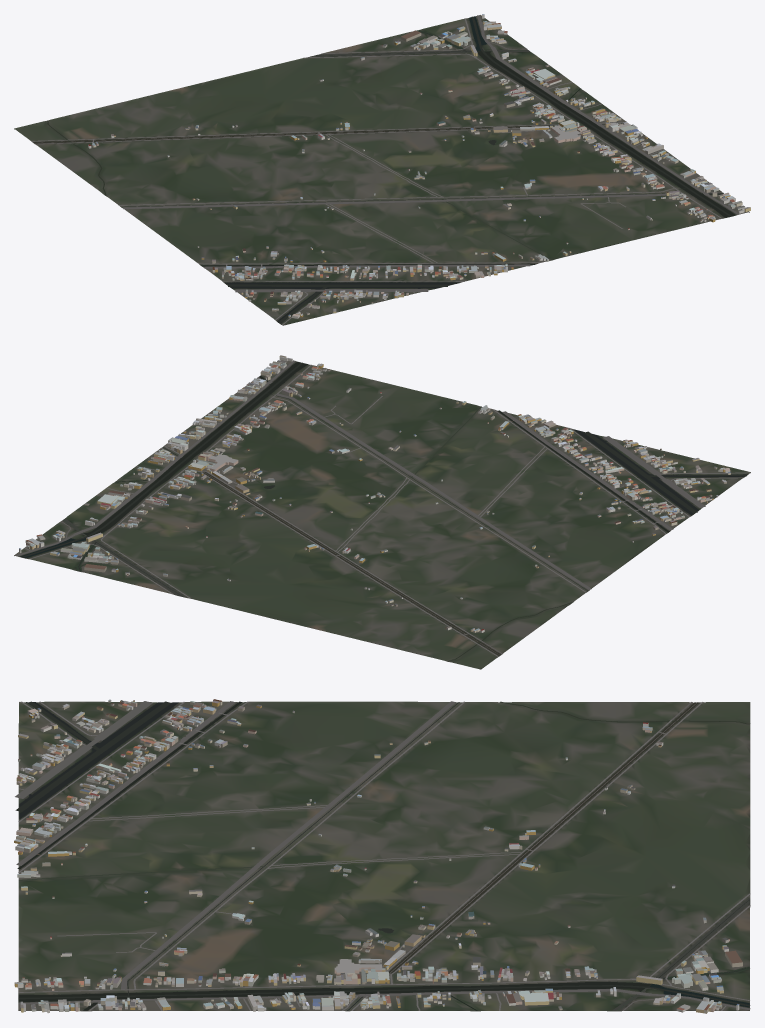
The picture shows the model from 3 angles, top to bottom: view 1: azimuth 30°, elevation 25°; view 2: azimuth 150°, elevation 25°; view 3: azimuth 270°, elevation 25°; orthographic projection. The views are drawn at different scales.
Parts seen in each view (by area): view 1: ground, buildings, roads, water; view 2: ground, buildings, roads, water; view 3: ground, buildings, roads, water.
Boxes of the visible parts, <box> form: ground: <box>14,15,749,325</box>; buildings: <box>88,14,750,318</box>; roads: <box>31,15,739,325</box>; water: <box>33,16,735,323</box>; ground: <box>14,360,750,669</box>; buildings: <box>19,355,730,632</box>; roads: <box>15,360,749,656</box>; water: <box>20,361,747,661</box>; ground: <box>18,701,750,1011</box>; buildings: <box>14,699,742,1013</box>; roads: <box>15,701,750,1010</box>; water: <box>15,701,750,1010</box>.
Bounding box in the file's own units: 1418 × 18.27 × 1411.
